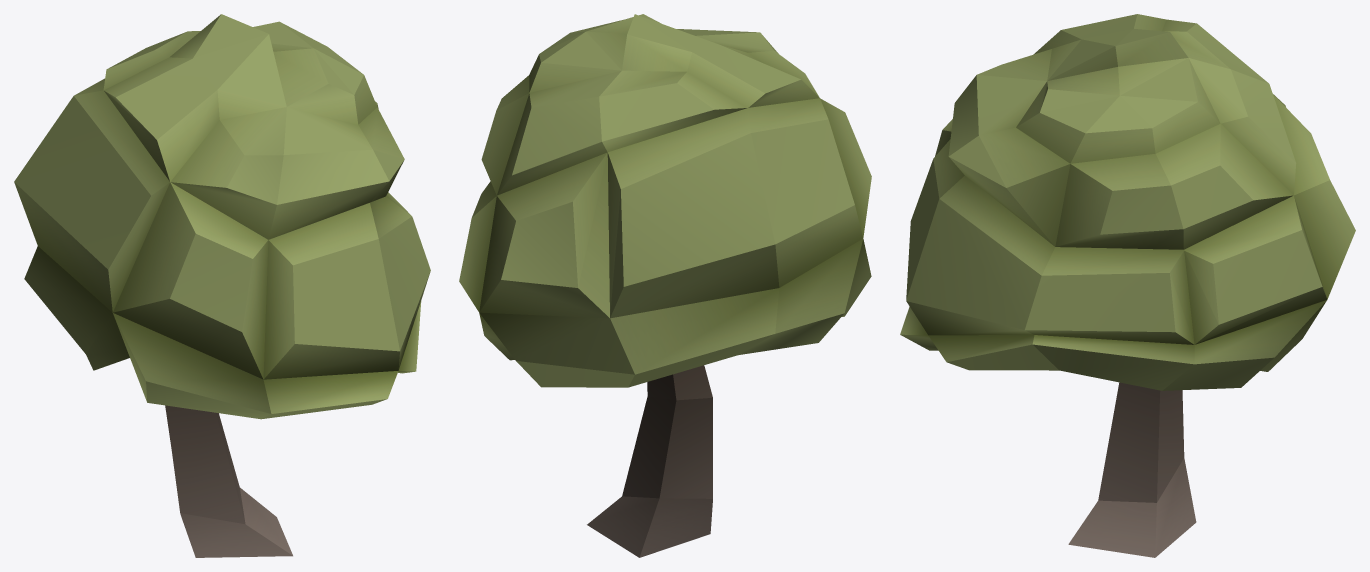
Rendered from tree05_mdl.FBX.
3 views of the same model, side by side, from view 1: azimuth 30°, elevation 25°; view 2: azimuth 150°, elevation 25°; view 3: azimuth 270°, elevation 25° (orthographic).
Parts seen in each view (by area): view 1: Tree5; view 2: Tree5; view 3: Tree5.
Boxes of the visible parts, <box> form: Tree5: <box>14,14,430,557</box>; Tree5: <box>459,14,871,557</box>; Tree5: <box>900,14,1355,557</box>.
Size of the model in its own units: 3.5 by 5.3 by 4.35.
1 material, 1 textured.
